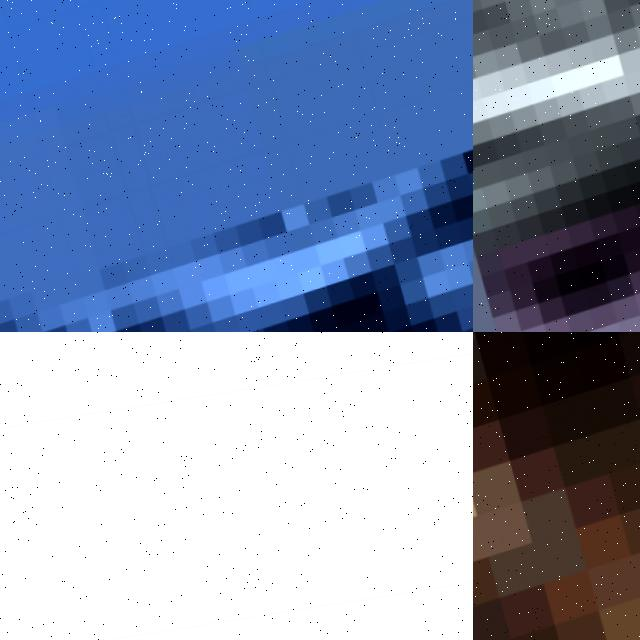drone: (0, 0, 473, 332), (473, 0, 640, 332), (473, 332, 640, 640)
